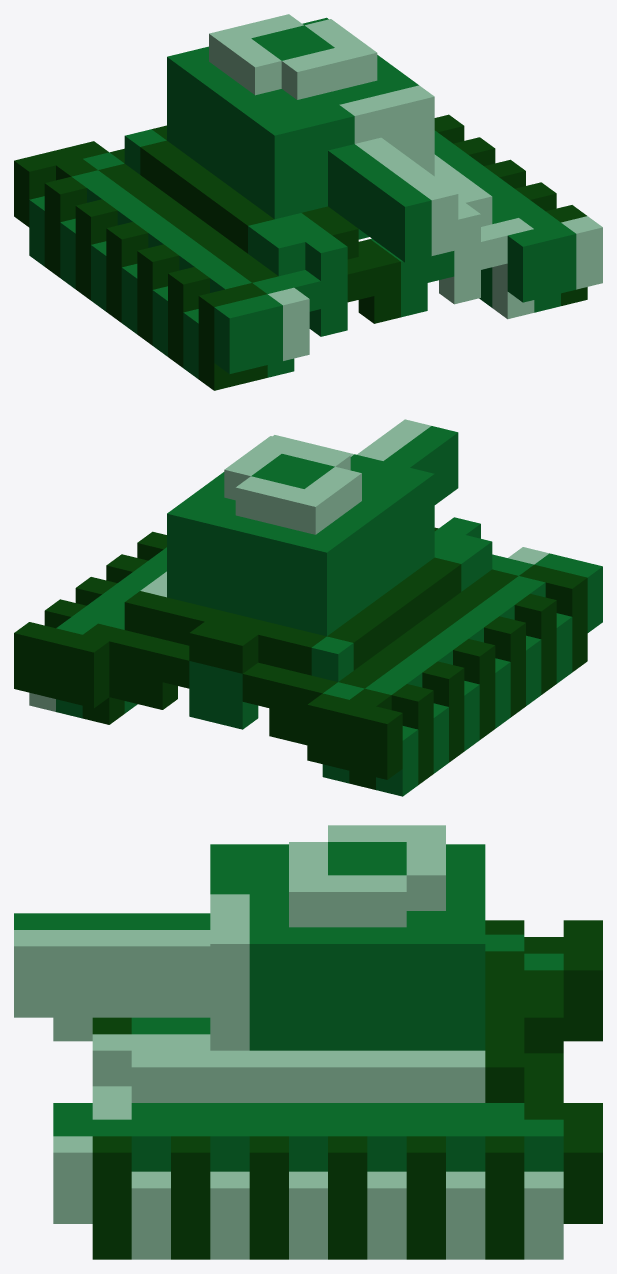
Rendered from super_green_tank.glb.
3 views of the same model, one above another, from view 1: azimuth 30°, elevation 25°; view 2: azimuth 150°, elevation 25°; view 3: azimuth 270°, elevation 25° (orthographic). The views are drawn at different scales.
Visible parts, largest first — view 1: Object_2.001; view 2: Object_2.001; view 3: Object_2.001.
Part boxes in pixels (bbox=[...]): Object_2.001: bbox=[14, 14, 602, 390]; Object_2.001: bbox=[14, 419, 602, 796]; Object_2.001: bbox=[14, 825, 602, 1259].
Size of the model in its own units: 14 by 8 by 15.
Materials: 1 (1 with a texture image).
